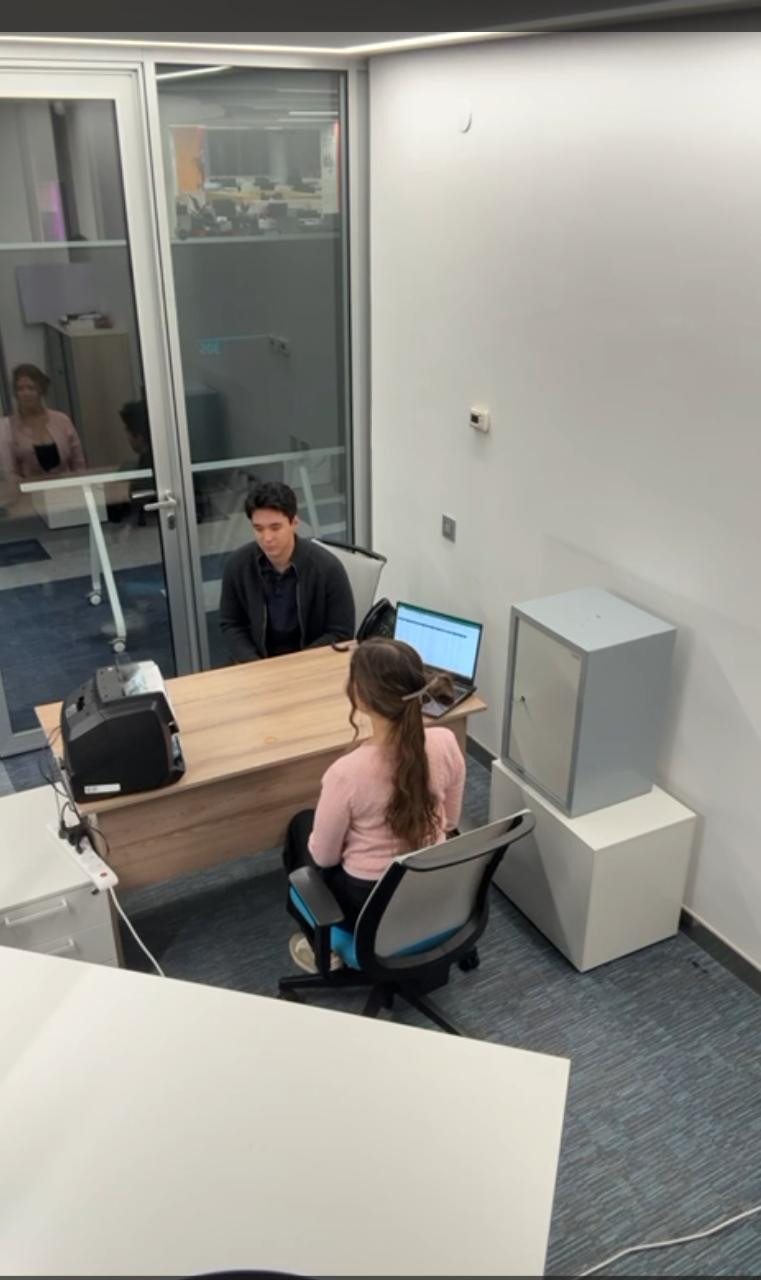cash_stack: (114, 660, 148, 709), (167, 726, 180, 763)
counter: (57, 661, 191, 798)
key_in: (514, 681, 533, 720)
screen_on: (397, 618, 479, 672)
